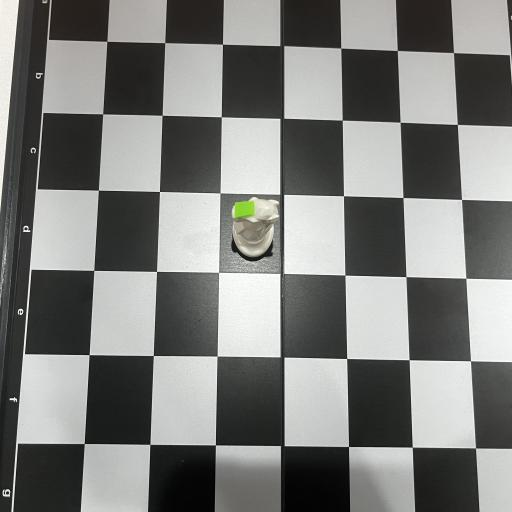White knight: (231, 197, 279, 257)
